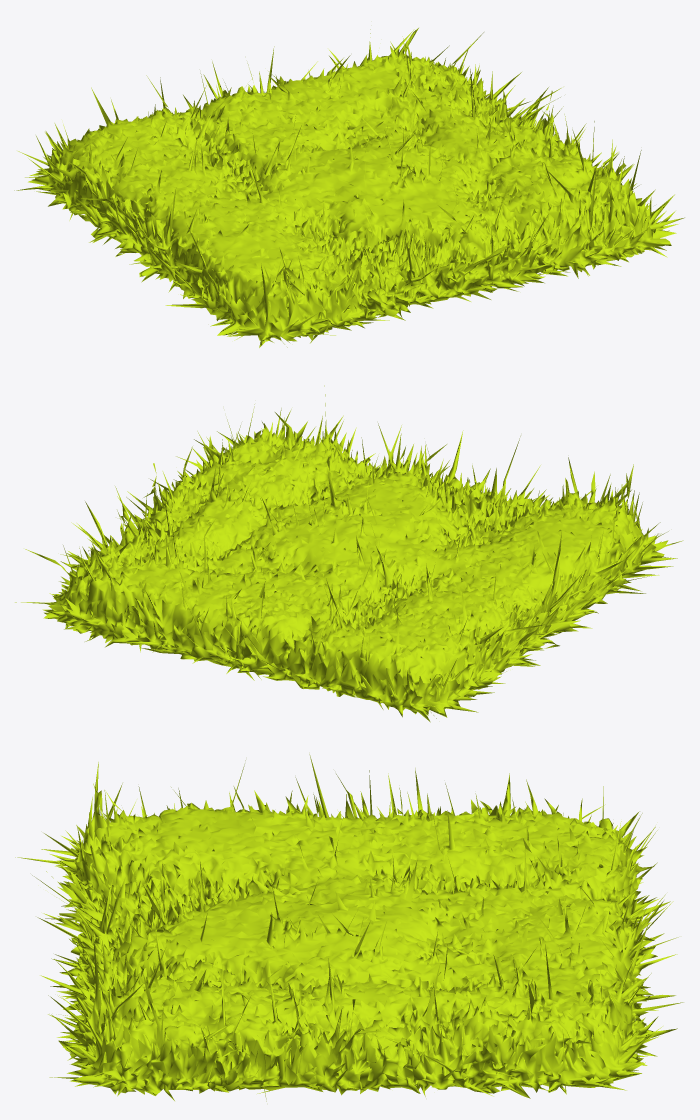
The model's file is textura grama.glb.
3 views of the same model, one above another, from view 1: azimuth 30°, elevation 25°; view 2: azimuth 150°, elevation 25°; view 3: azimuth 270°, elevation 25° (orthographic). The views are drawn at different scales.
Visible parts, largest first — view 1: mesh_node; view 2: mesh_node; view 3: mesh_node.
Part boxes in pixels (x1,y1,x2,y2): mesh_node: (14,28,684,347); mesh_node: (15,385,683,722); mesh_node: (15,754,683,1101).
Bounding box in the file's own units: 1.83 × 0.3551 × 1.83.
